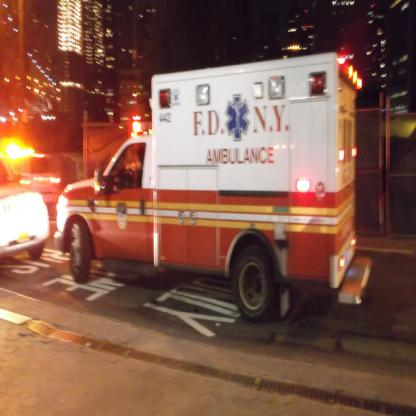Ambulance: (54, 52, 372, 324)
Car: (0, 154, 51, 260)
